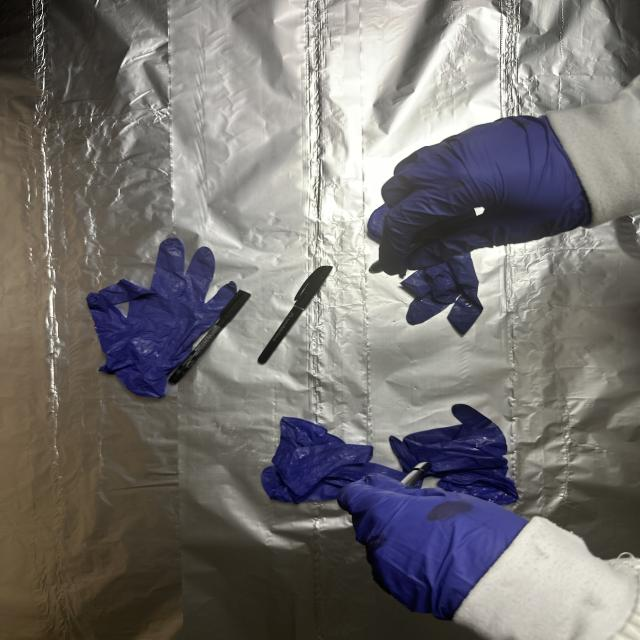gloves_contaminated: (379, 116, 591, 274), (338, 475, 527, 619)
